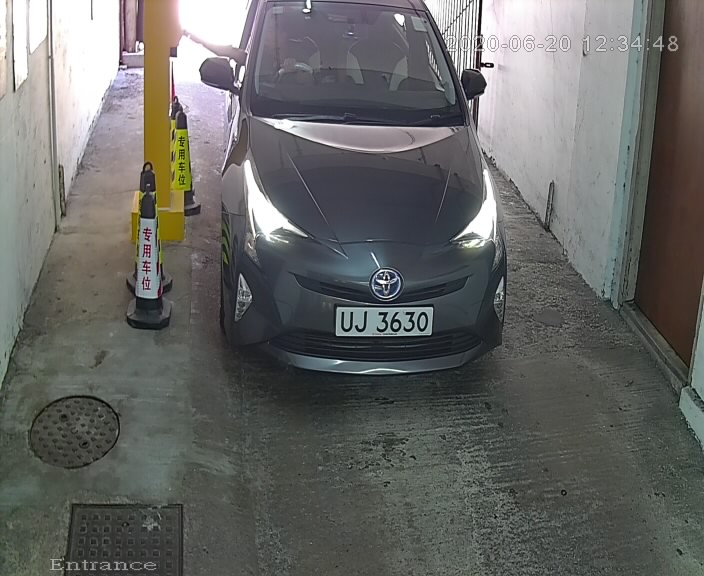privatecar: (195, 3, 512, 410)
